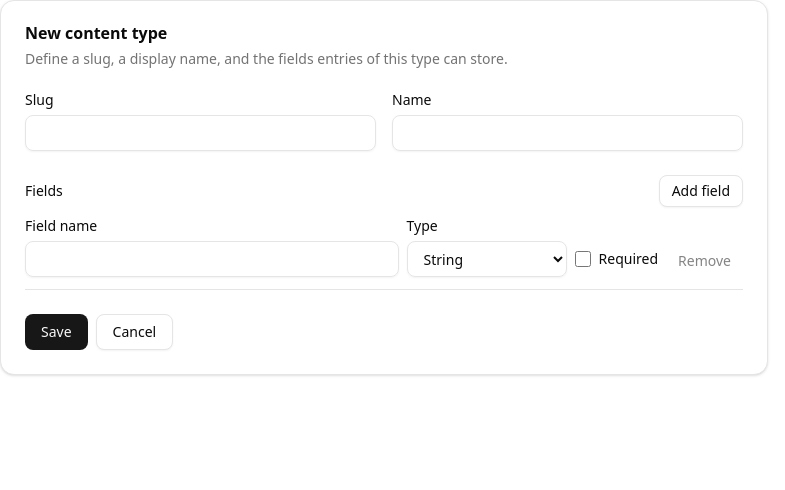
Test: shows field errors returned by the API
Type "post" into the field labelled "Slug". click: (200, 133)
box: [25,115,376,151]
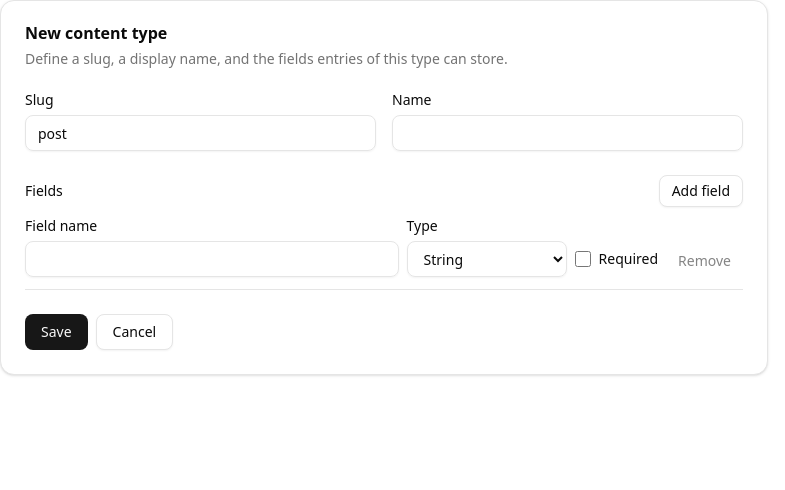
Type "Post" into the field labelled "Name". click: (568, 133)
box: [392,115,743,151]
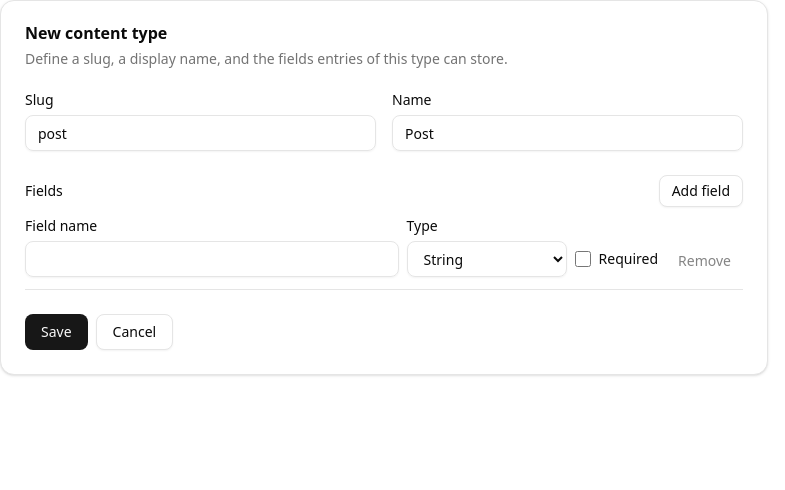
Type "title" into the field labelled "Field name". click: (212, 259)
box: [25,241,399,277]
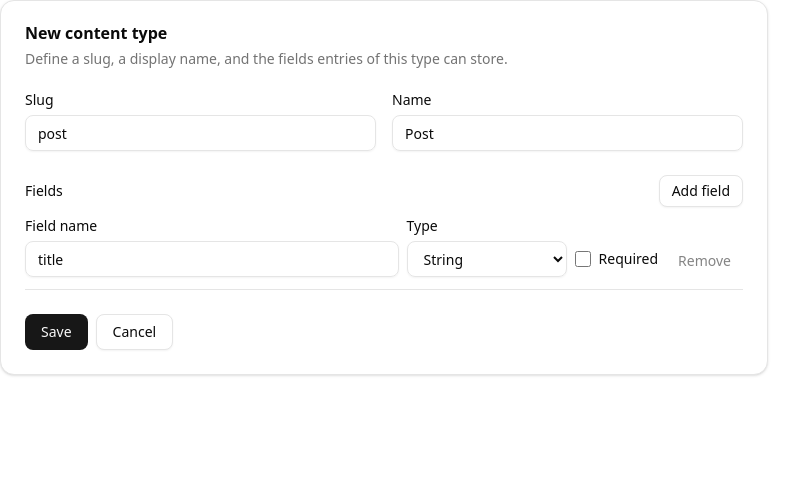
Click the button "Save". click: (56, 332)
box: [25,314,88,350]
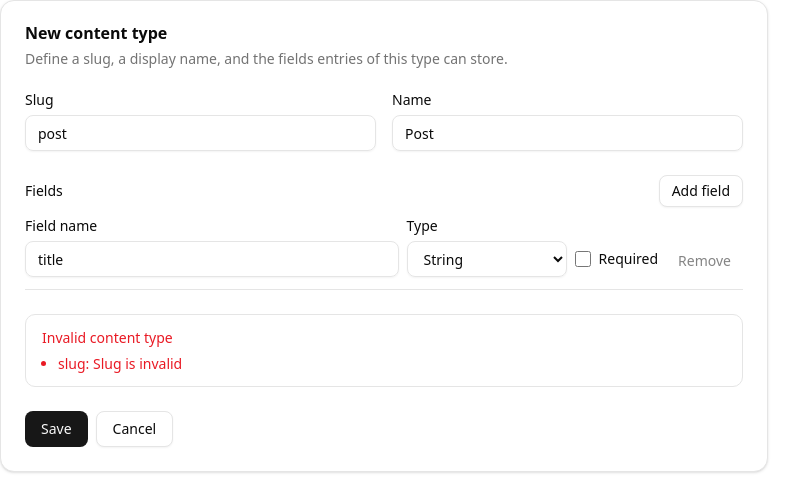
Expected: the list item "slug: Slug is invalid" is shown, [58,354,182,374]
